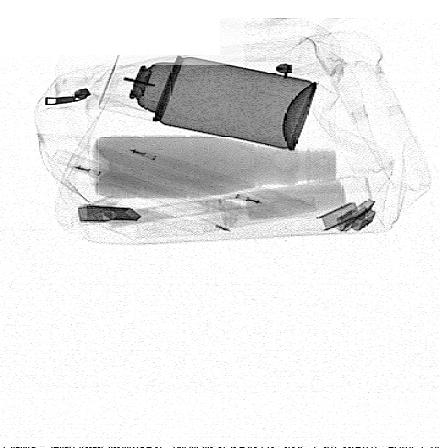Sprayer: (98, 45, 317, 151)
